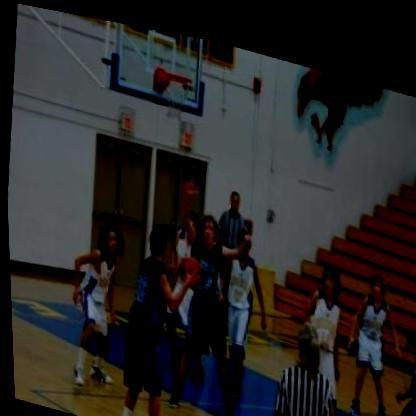basketball: (173, 242, 204, 283)
